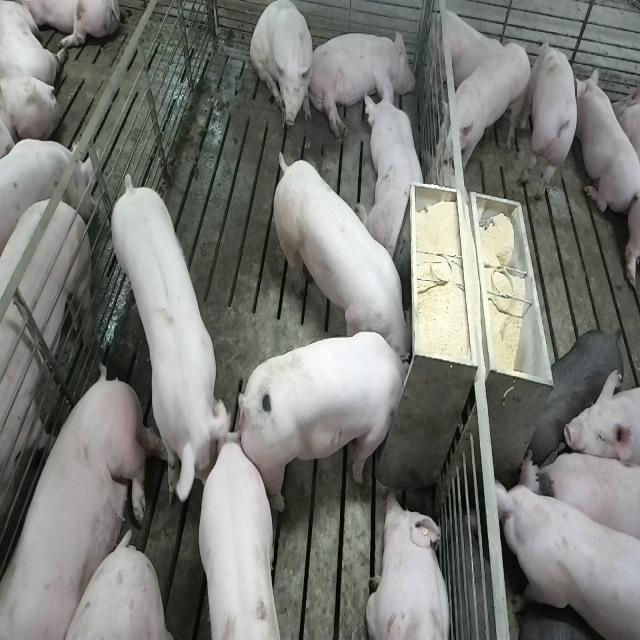Feeding: (243, 330, 420, 512), (268, 144, 411, 360)
Lateral_lying: (306, 26, 416, 140)
Sitting: (250, 2, 314, 136)
Standing: (110, 173, 240, 513), (0, 194, 94, 640), (491, 457, 638, 640), (201, 442, 287, 640), (527, 324, 625, 460), (445, 42, 534, 170), (533, 446, 640, 550), (566, 369, 640, 467)
Sternal_lying: (365, 489, 453, 640), (365, 79, 430, 258), (575, 66, 637, 215), (428, 4, 512, 94)
